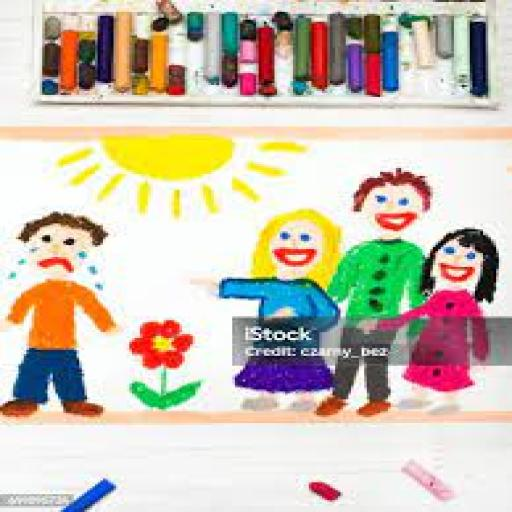person: (187, 207, 355, 421), (316, 169, 433, 419), (0, 212, 129, 422), (408, 226, 504, 424)
